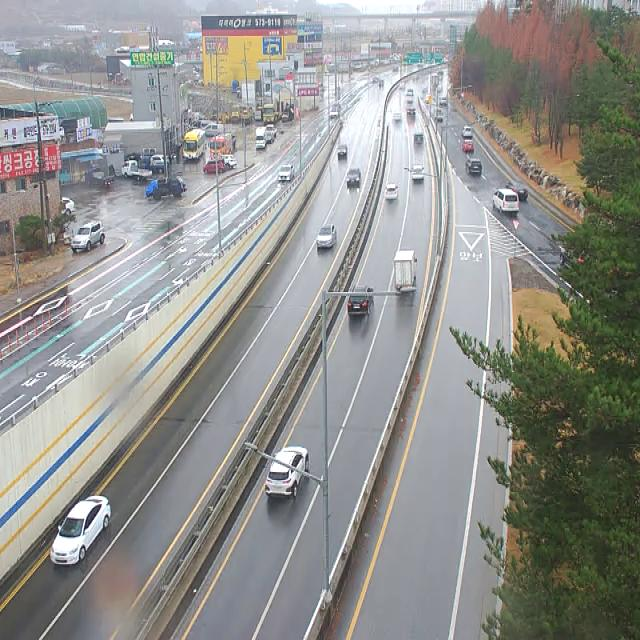Bus: (183, 130, 205, 162)
Car: (50, 497, 111, 566), (264, 448, 310, 497), (71, 220, 105, 252), (348, 284, 374, 316), (493, 190, 518, 212), (317, 224, 336, 250), (506, 182, 528, 200), (203, 159, 225, 174), (202, 123, 225, 136), (346, 168, 361, 187), (278, 164, 294, 181), (466, 159, 482, 174), (385, 183, 399, 200), (60, 198, 74, 215), (217, 155, 237, 166), (150, 154, 169, 165), (412, 165, 424, 181), (337, 144, 348, 159), (330, 104, 341, 118), (462, 140, 474, 152), (266, 124, 277, 137), (435, 107, 444, 122), (462, 126, 473, 138), (414, 131, 424, 144), (392, 112, 402, 122), (406, 107, 416, 117), (266, 132, 274, 144), (440, 97, 448, 106)
Truck: (394, 250, 418, 291), (146, 176, 187, 200), (208, 133, 236, 159), (85, 166, 114, 188), (122, 161, 152, 181), (139, 156, 164, 173), (263, 104, 280, 123), (256, 127, 267, 150)
